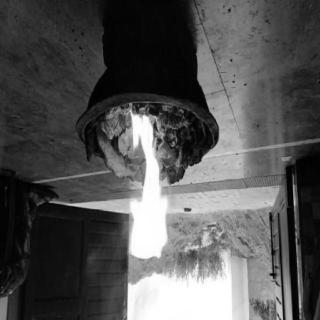Fire: (122, 106, 174, 276)
